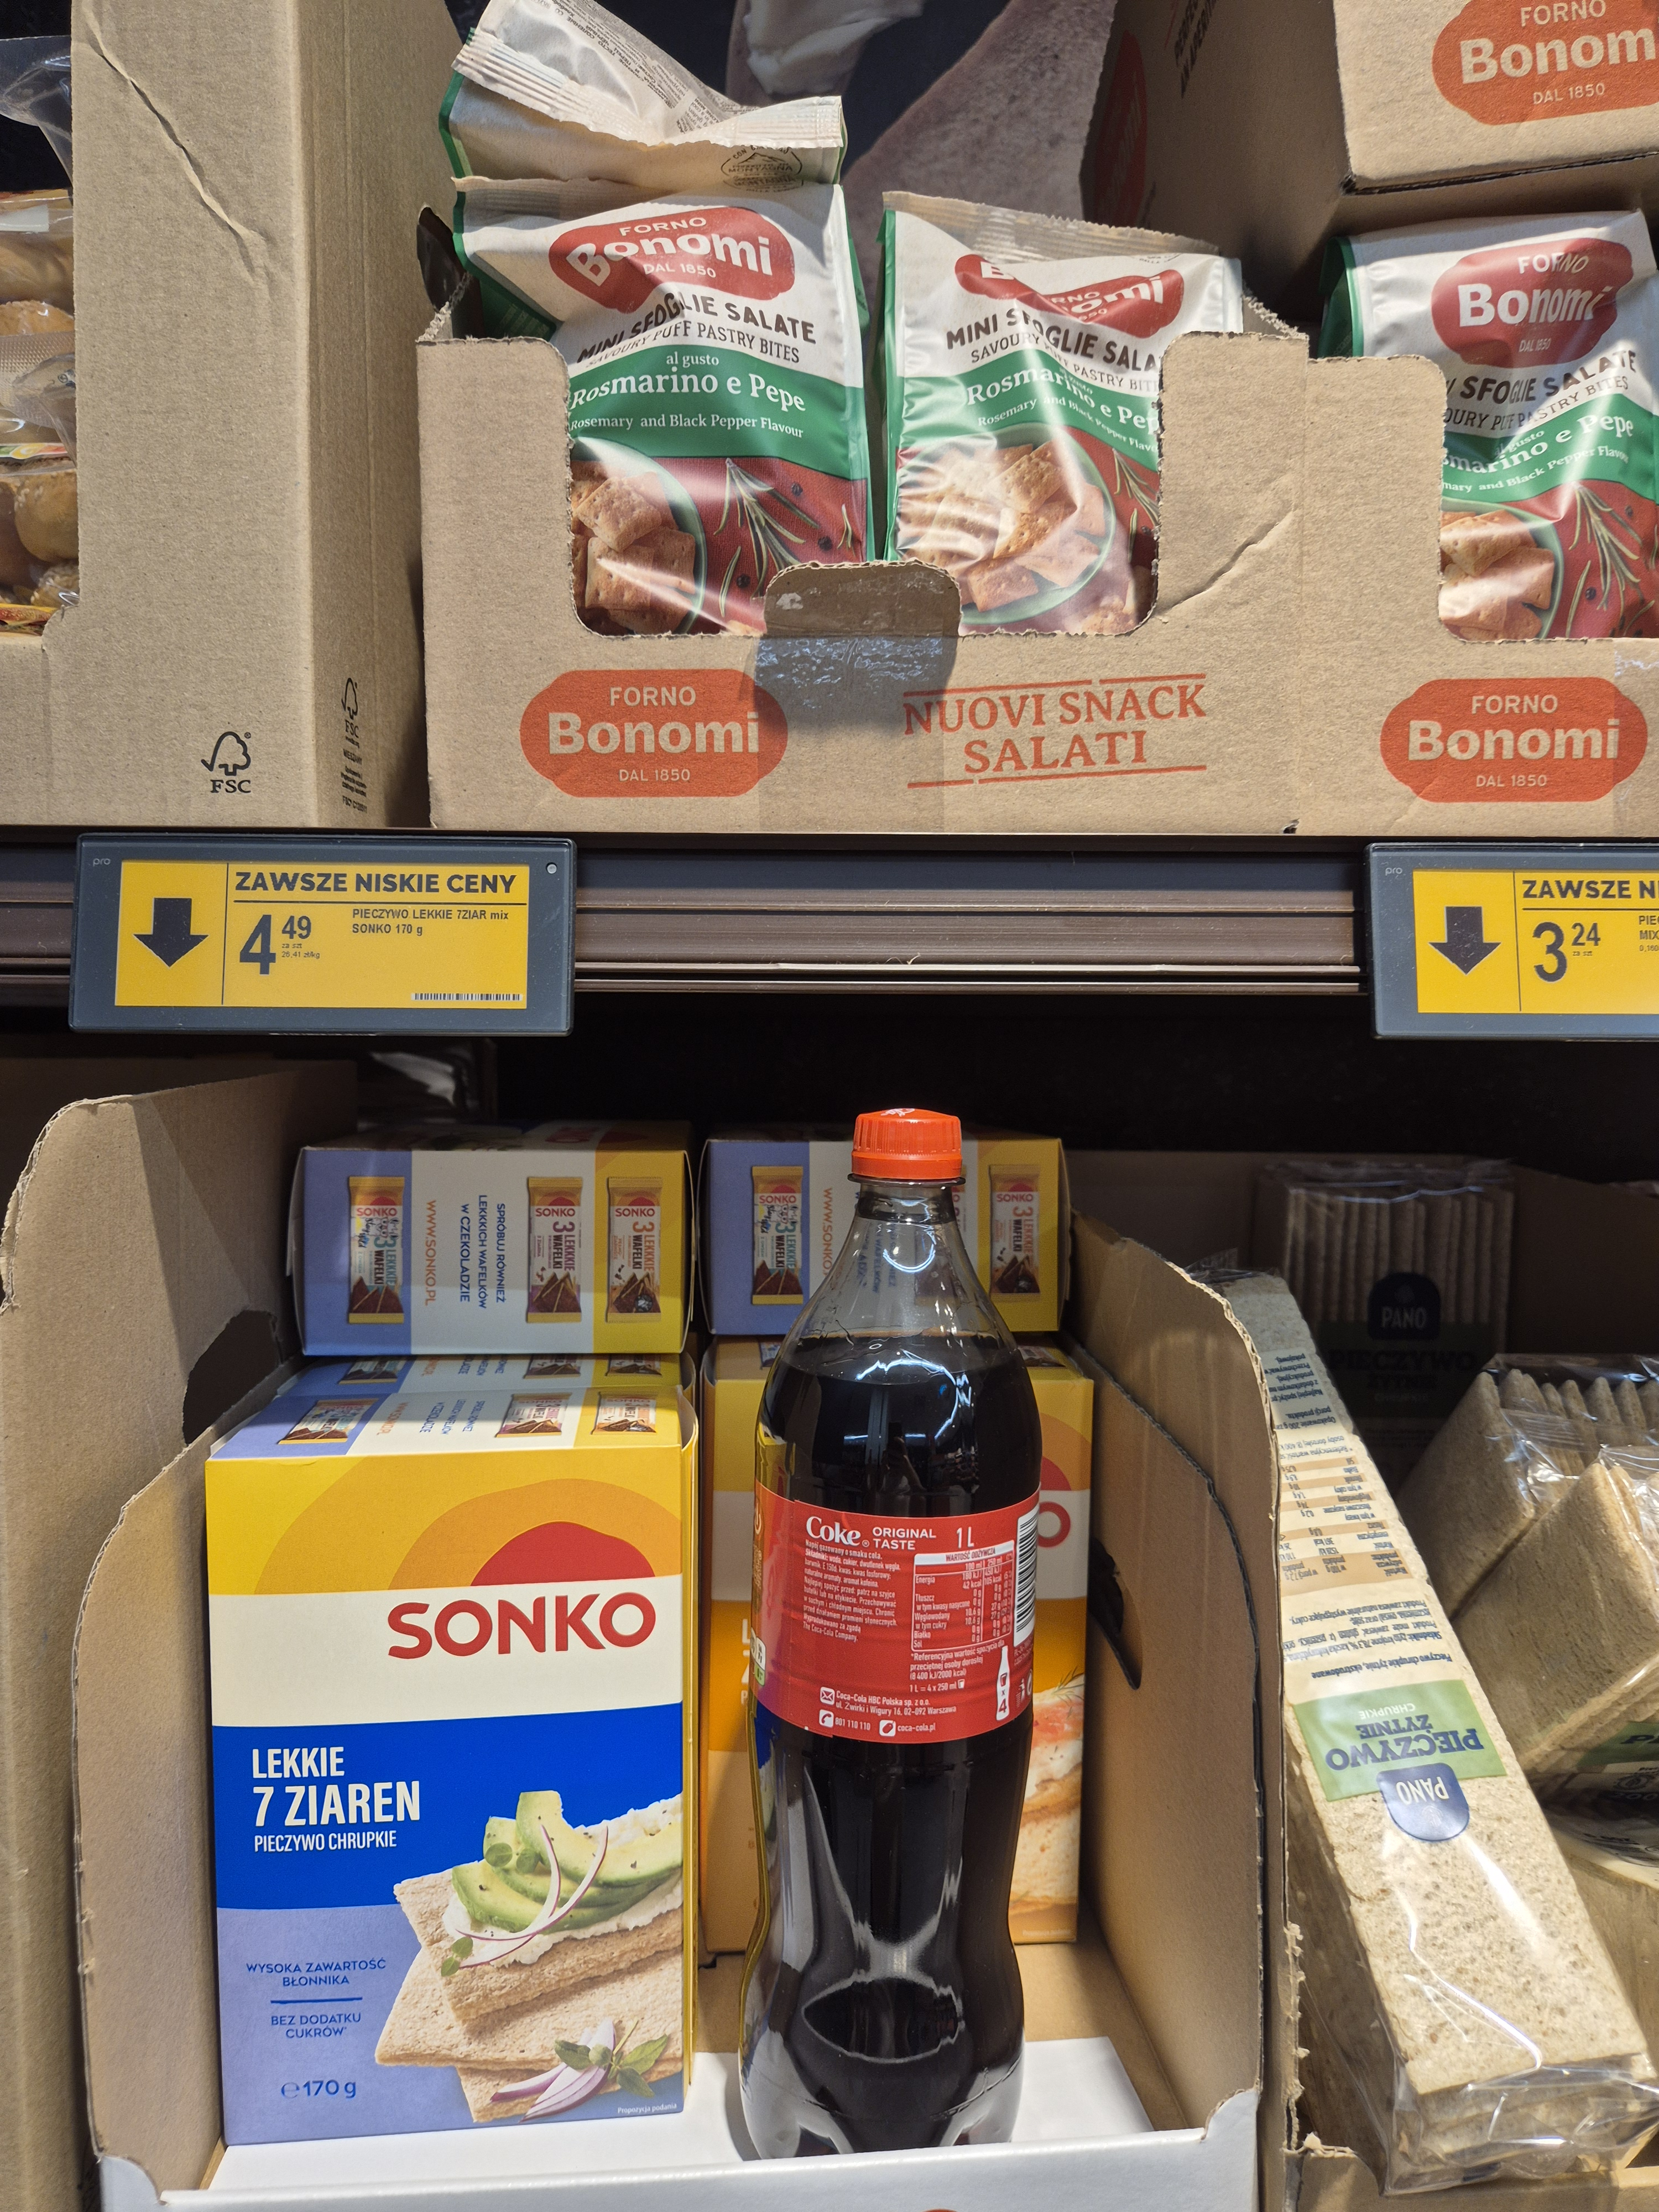Coca Cola: (727, 1090, 1068, 2144)
